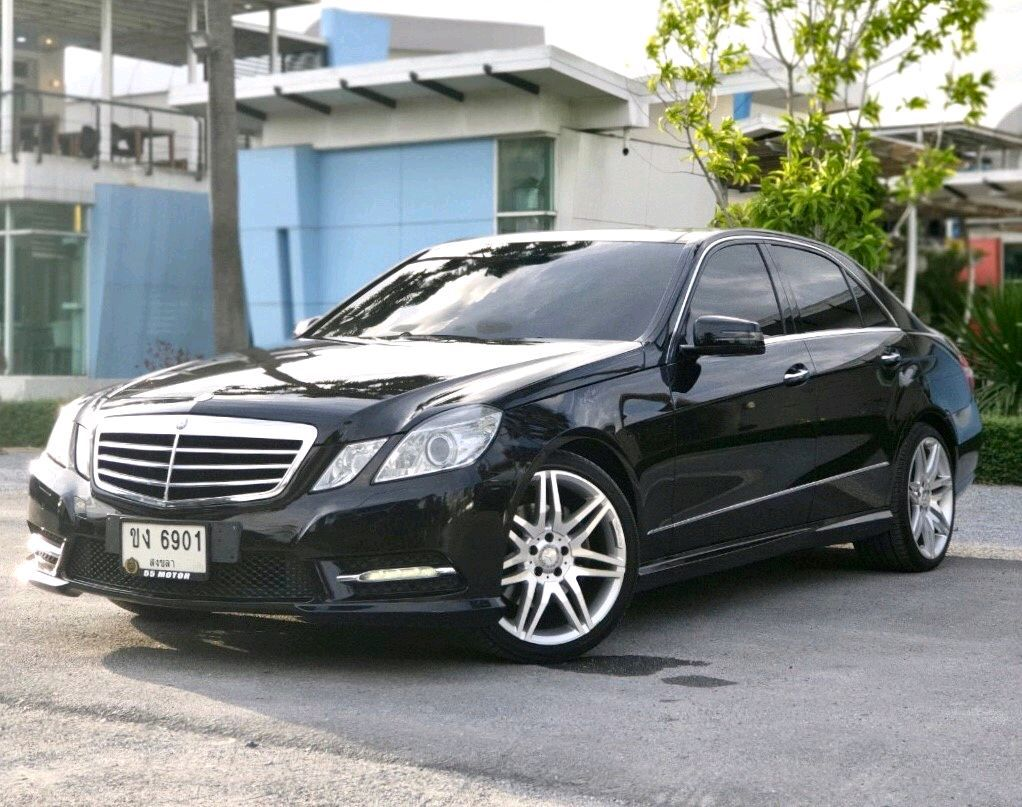sedan: (20, 223, 985, 665)
